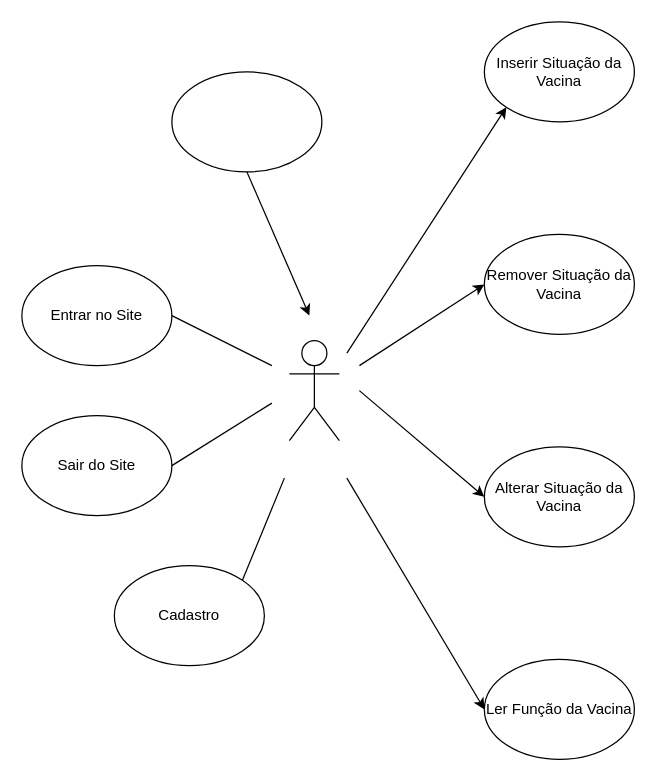
Image size: 656x781. Some labels were removed from this diagram. Each missing label, with the centre of its shape:
"Receber Alertas no Período de Novas Dosagens" goes at [246,121].
"Usuário" goes at [313,390].
